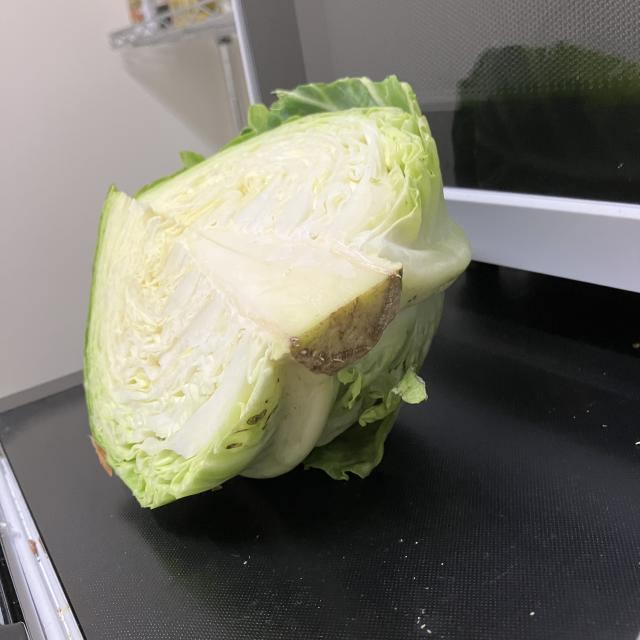haft-cabbage: (79, 76, 474, 513)
